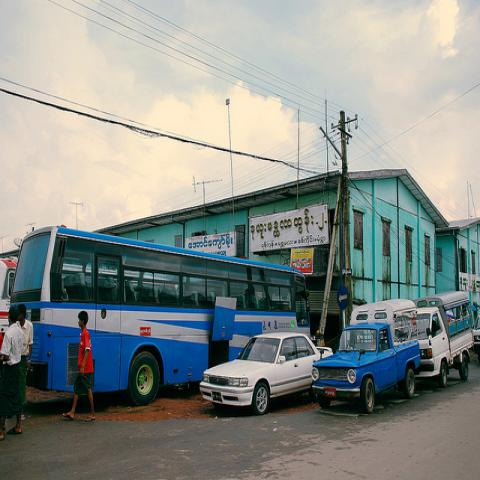bus: (7, 229, 312, 406), (0, 257, 19, 352)
car: (200, 329, 333, 414), (472, 310, 479, 364)
truck: (310, 298, 421, 413), (413, 290, 475, 388)
